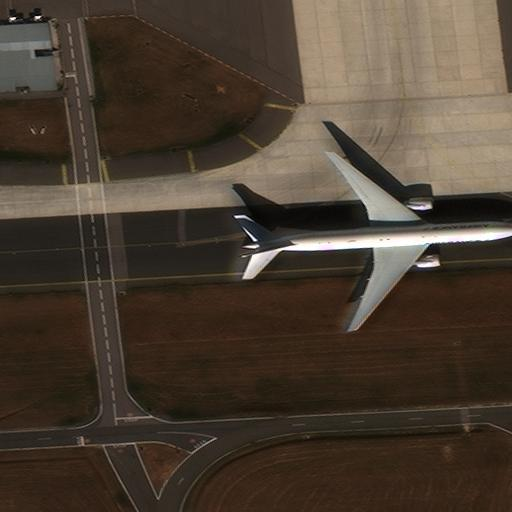Large Civil Transport: (240, 152, 512, 330)
